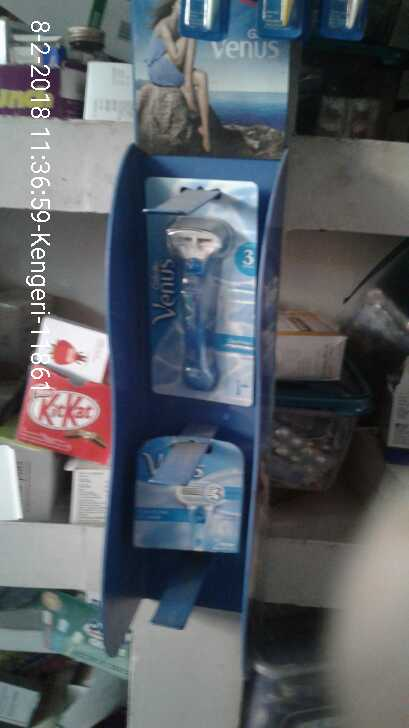venus: (149, 218, 251, 403), (141, 445, 243, 550)
